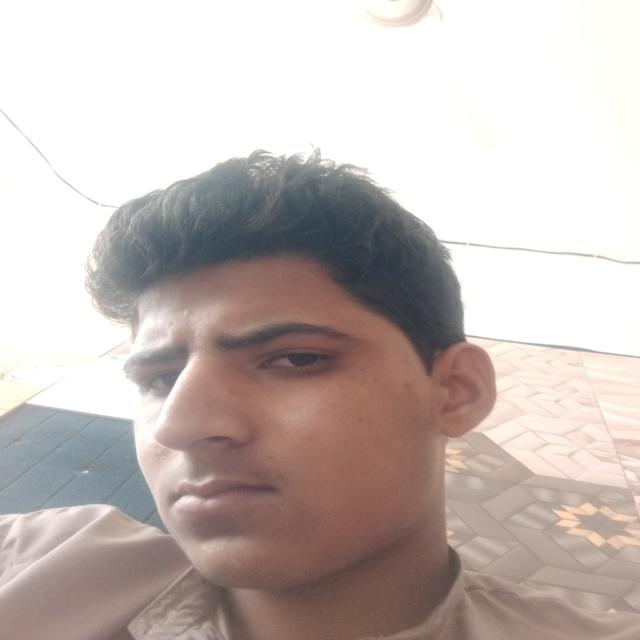Acne: (357, 366, 379, 388), (352, 416, 373, 430), (400, 378, 419, 392), (146, 450, 167, 462), (397, 357, 419, 368), (226, 446, 242, 461), (277, 399, 295, 409), (312, 393, 326, 404), (135, 341, 148, 349)
